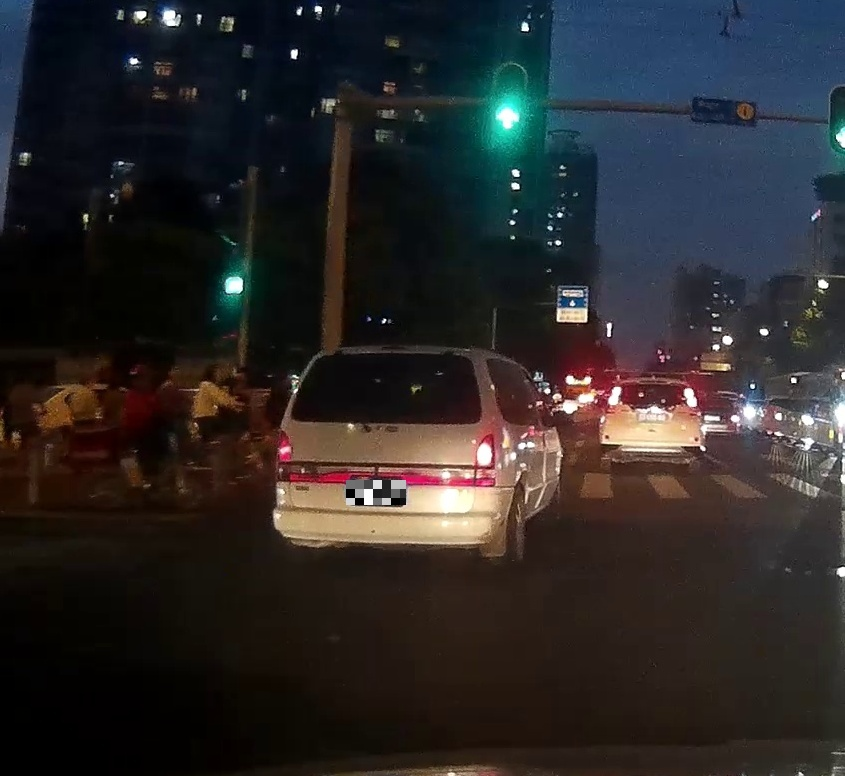L_light: (274, 429, 292, 482), (605, 386, 622, 413)
R_light: (471, 433, 496, 486), (683, 388, 701, 412)
T_light: (378, 346, 406, 353), (641, 379, 667, 383)
night-no: (598, 376, 704, 465)
night-right: (271, 345, 496, 549)
plate_1: (346, 480, 406, 505)
